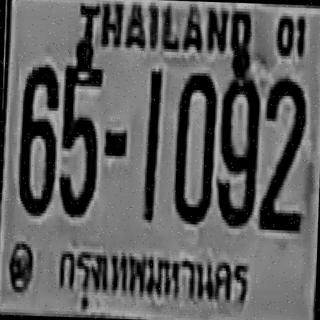N00: (172, 69, 216, 222)
N01: (142, 68, 161, 220)
N02: (258, 72, 305, 231)
N05: (57, 54, 103, 215)
N06: (16, 61, 58, 214)
N09: (214, 70, 258, 224)
P04: (52, 235, 256, 320)
